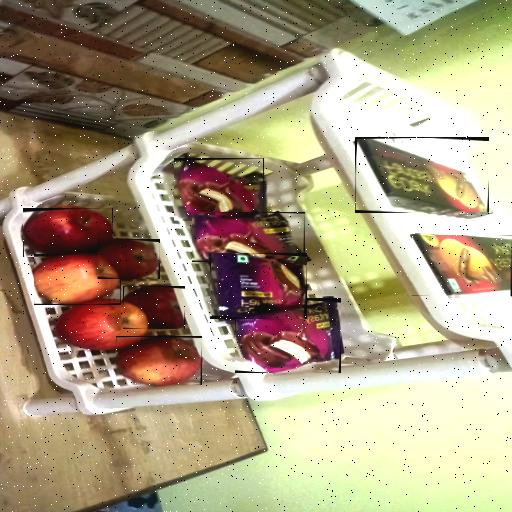Apple: (34, 254, 121, 305), (23, 208, 113, 257), (116, 336, 202, 385), (123, 286, 185, 329), (98, 239, 160, 279)
Choco Fills: (355, 138, 489, 214), (412, 236, 512, 298)
Choco Pie: (235, 298, 341, 373), (212, 254, 306, 318), (174, 158, 264, 221), (192, 212, 305, 262)
